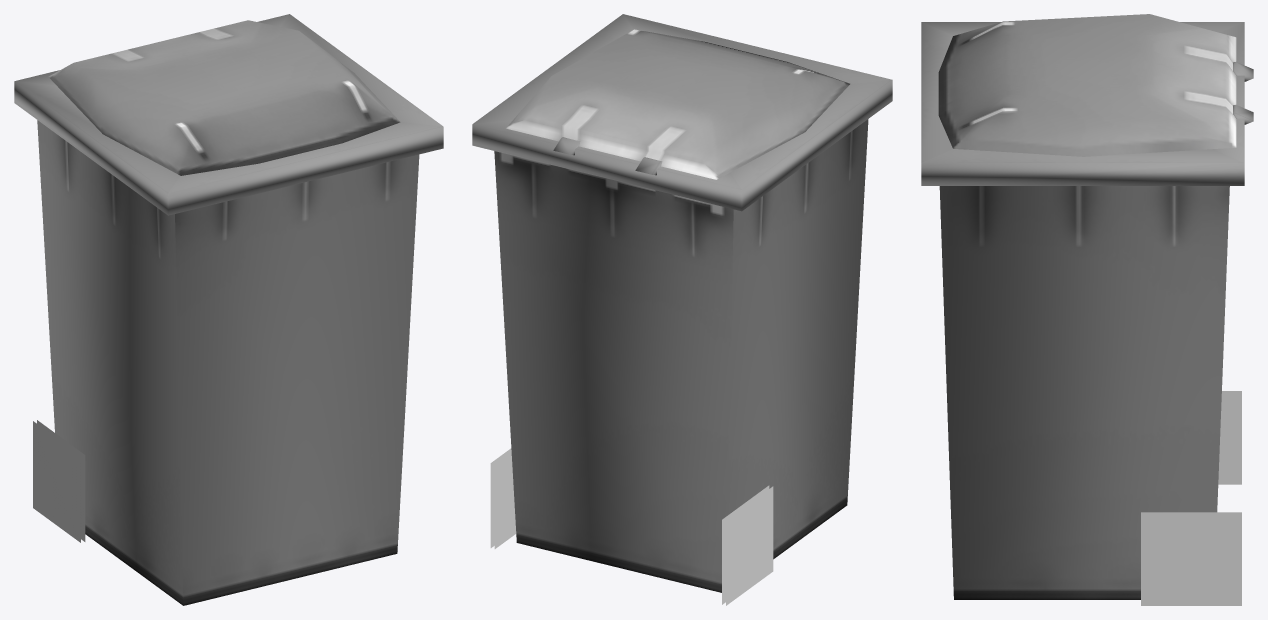
Rendered from muelltonne_zu.fbx.
The picture shows the model from 3 angles, left to right: view 1: azimuth 30°, elevation 25°; view 2: azimuth 150°, elevation 25°; view 3: azimuth 270°, elevation 25°; orthographic projection. The views are drawn at different scales.
Visible parts, largest first — view 1: Mesh; view 2: Mesh; view 3: Mesh.
Part boxes in pixels (left/top/right/bottom): Mesh: left=14, top=14, right=443, bottom=605; Mesh: left=472, top=14, right=892, bottom=605; Mesh: left=921, top=14, right=1253, bottom=605.
Bounding box in the file's own units: 92 × 146 × 91.49.
